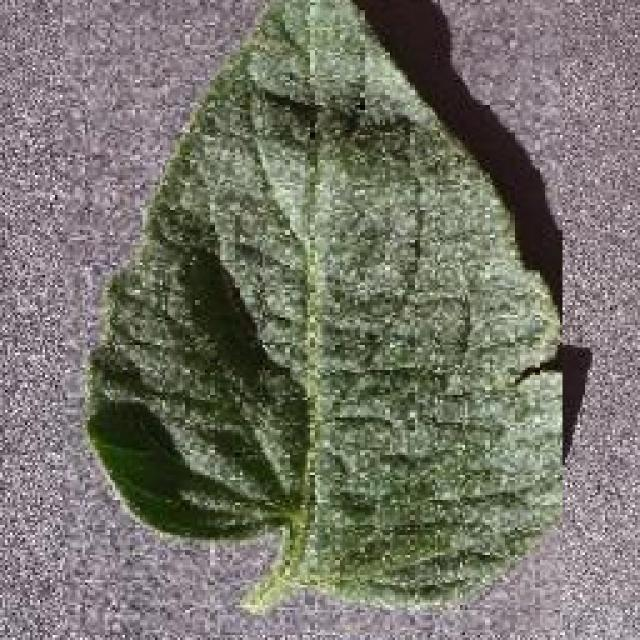Healthy: (62, 0, 562, 635)
